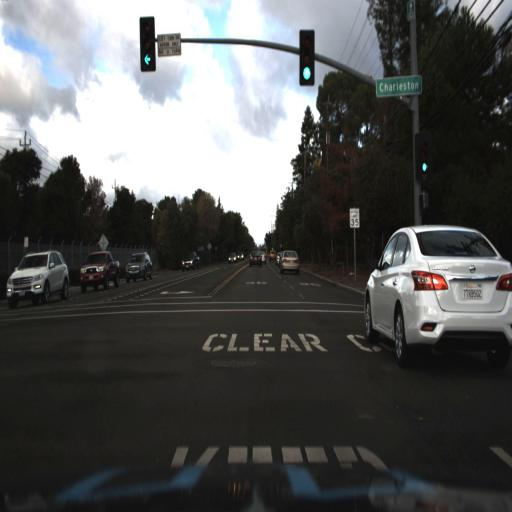car: (348, 218, 511, 383), (0, 245, 76, 315), (75, 244, 124, 300), (274, 247, 303, 275), (125, 251, 151, 281), (179, 245, 199, 273), (245, 244, 265, 268), (226, 250, 238, 265)
trafficLight-Green: (413, 158, 430, 183)
